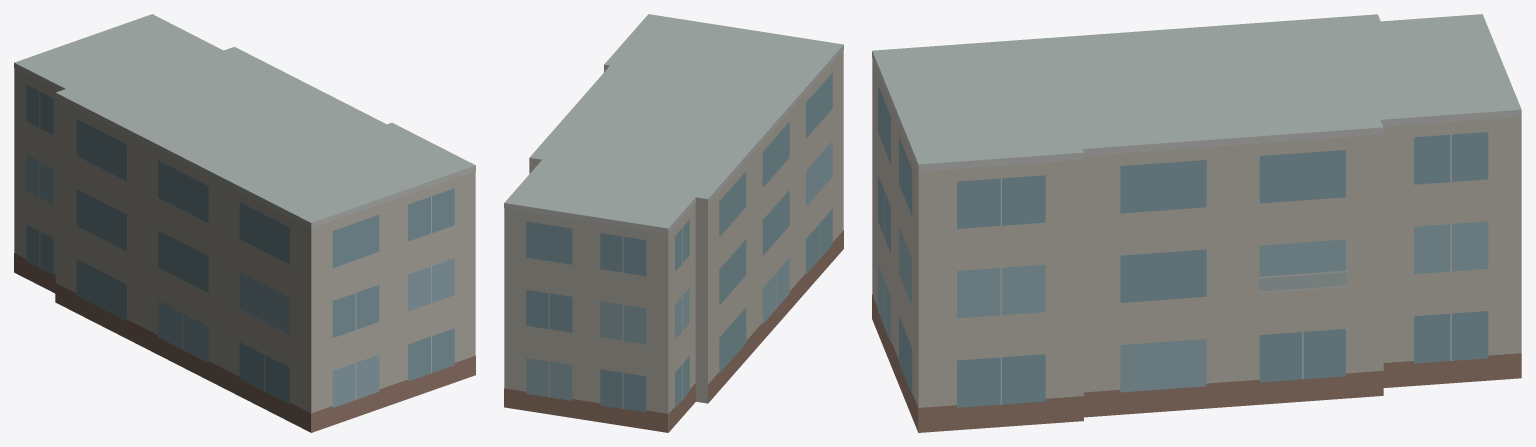
File: survey-upis-32708118.glb
3 renders of one model, left to right at view 1: azimuth 30°, elevation 25°; view 2: azimuth 150°, elevation 25°; view 3: azimuth 270°, elevation 25°, orthographic. The views are drawn at different scales.
Parts seen in each view (by area): view 1: survey-upis-32708118.tmp; view 2: survey-upis-32708118.tmp; view 3: survey-upis-32708118.tmp.
Boxes of the visible parts, x1=… form: survey-upis-32708118.tmp: x1=14, y1=14, x2=475, y2=432; survey-upis-32708118.tmp: x1=504, y1=14, x2=843, y2=432; survey-upis-32708118.tmp: x1=872, y1=14, x2=1521, y2=432.
Bounding box in the file's own units: 11.01 × 9.15 × 20.08.
